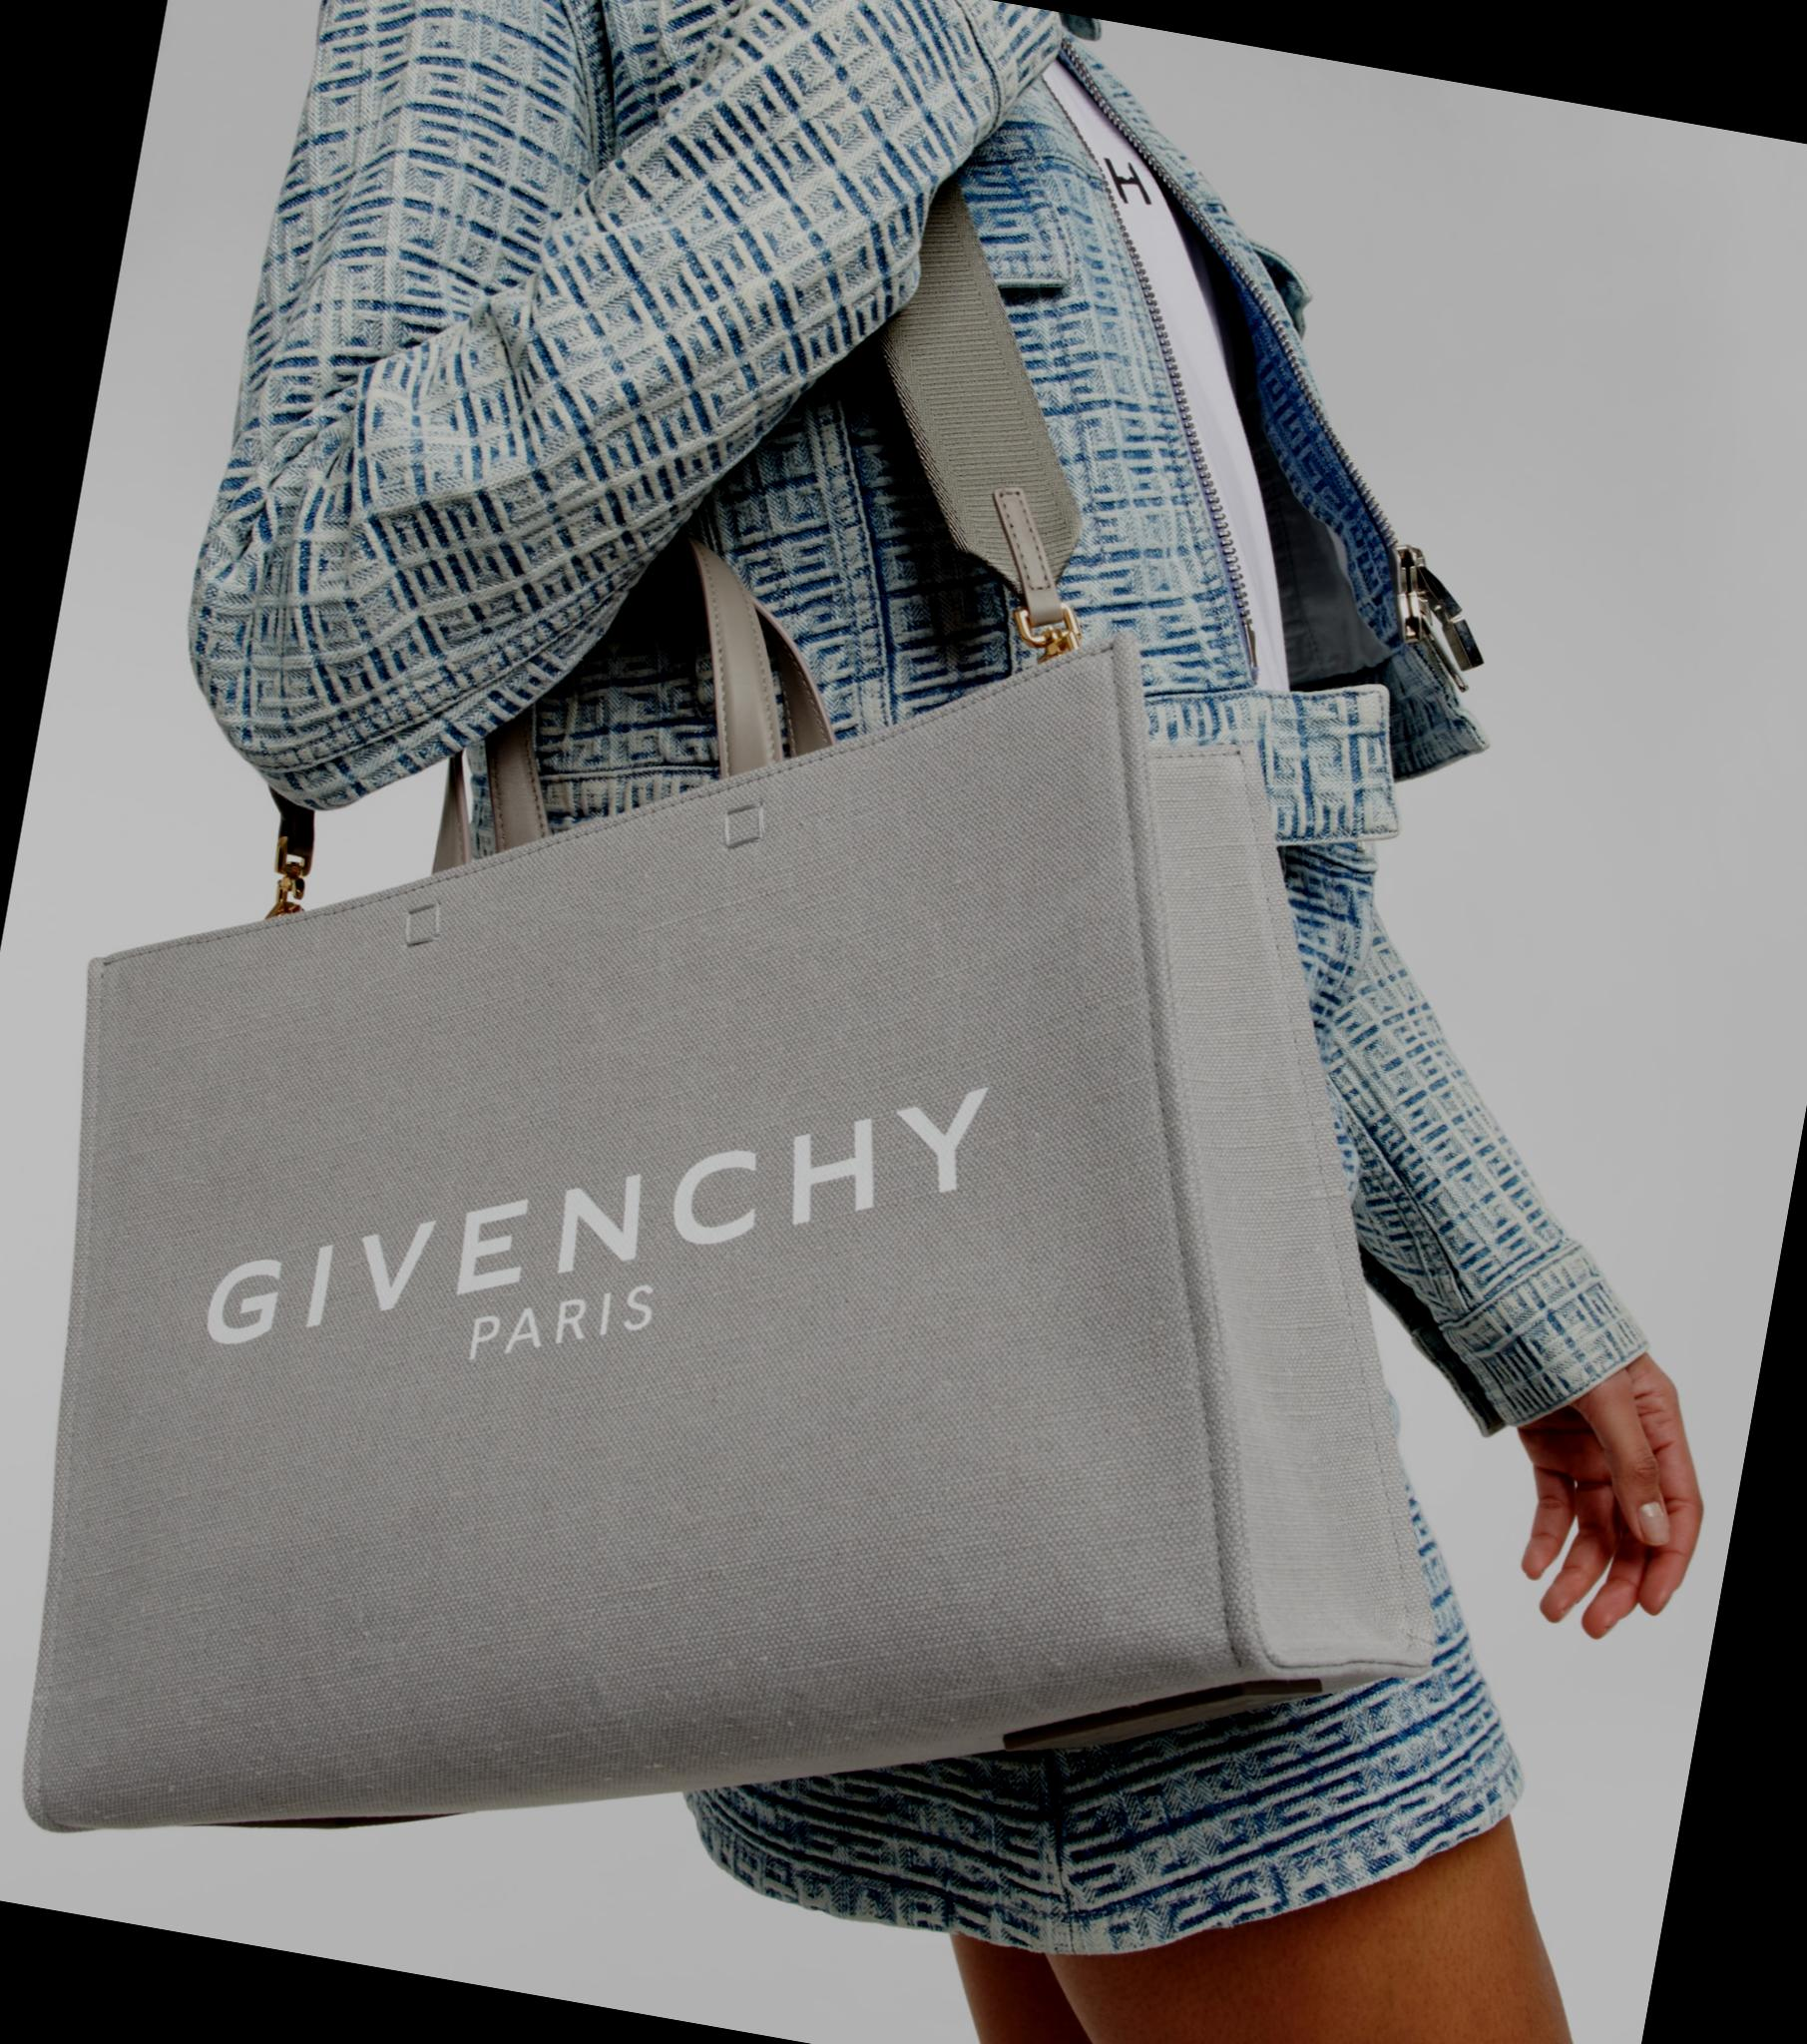GIVENCHY: (153, 916, 1024, 1531)
